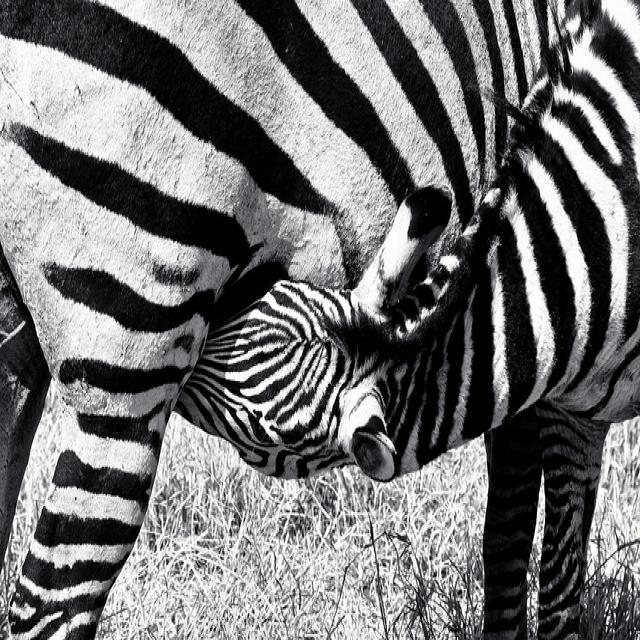zebra: (0, 2, 638, 640), (178, 2, 640, 640)
